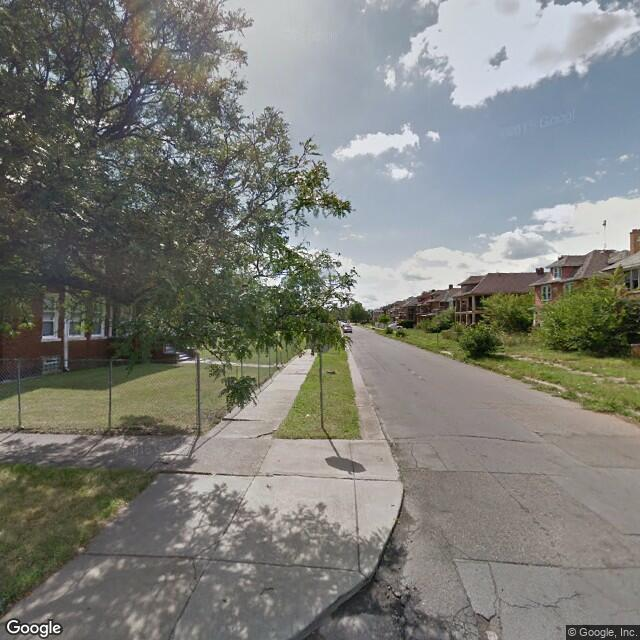litter: (304, 412, 313, 421), (555, 390, 563, 395)
